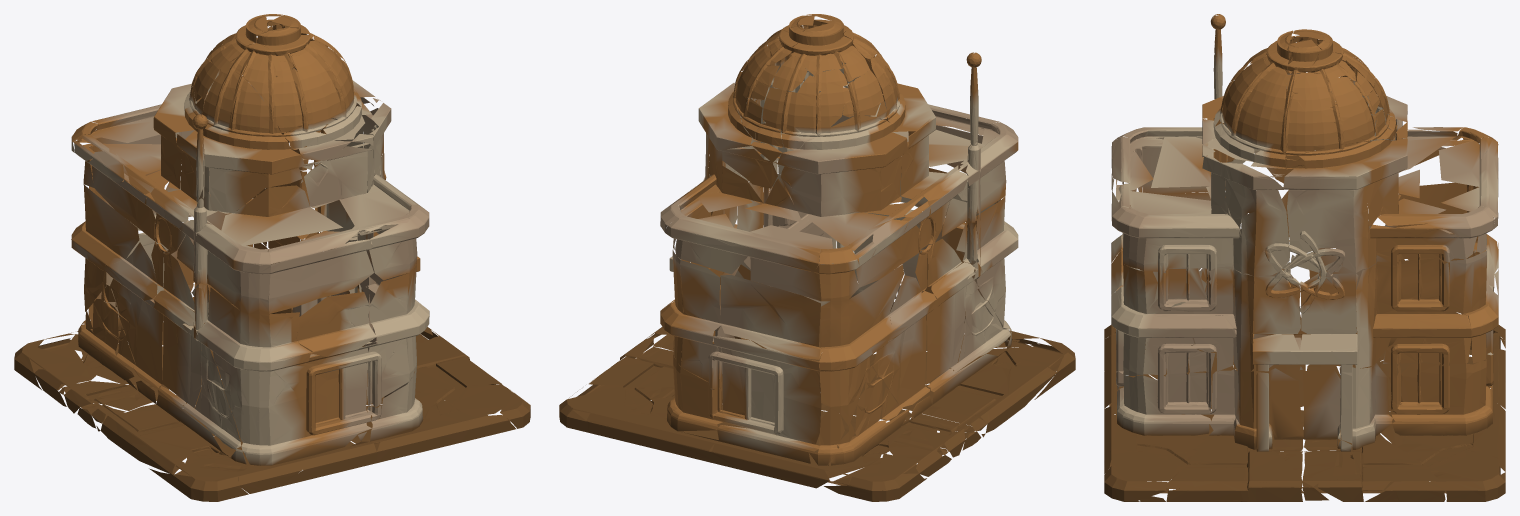
The model's file is hero-research-institute.glb.
The picture shows the model from 3 angles, left to right: view 1: azimuth 30°, elevation 25°; view 2: azimuth 150°, elevation 25°; view 3: azimuth 270°, elevation 25°; orthographic projection. The views are drawn at different scales.
Visible parts, largest first — view 1: world; view 2: world; view 3: world.
Part boxes in pixels (<box>): world: <box>14,14,530,501</box>; world: <box>559,14,1075,501</box>; world: <box>1104,14,1505,501</box>.
Size of the model in its own units: 2.7 by 2.8 by 2.69.
